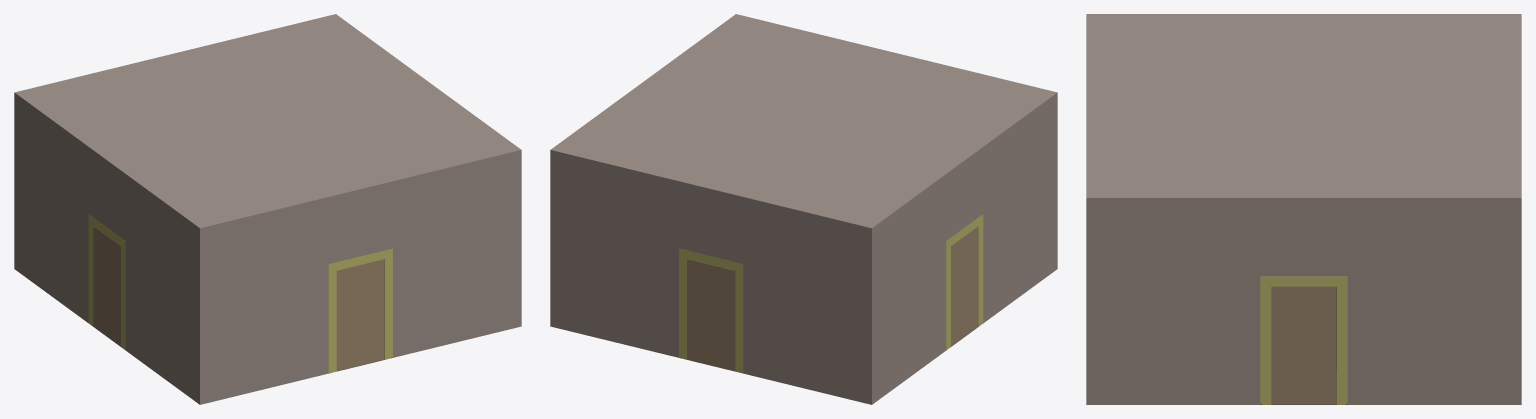
File: Room04_Ballroom.fbx
3 views of the same model, side by side, from view 1: azimuth 30°, elevation 25°; view 2: azimuth 150°, elevation 25°; view 3: azimuth 270°, elevation 25° (orthographic). The views are drawn at different scales.
Visible parts, largest first — view 1: Roof, WallSlicedPosZ, WallSlicedPosX, DoorPosZ, DoorPosX, DoorFramePosZ, DoorFramePosX, WallSlicedNegX, WallSlicedNegZ; view 2: Roof, WallSlicedNegZ, WallSlicedPosX, DoorNegZ, DoorPosX, DoorFrameNegZ, DoorFramePosX, WallSlicedPosZ, WallSlicedNegX; view 3: Roof, WallSlicedNegX, DoorNegX, DoorFrameNegX, WallSlicedNegZ, WallSlicedPosZ, WallSlicedPosX.
Boxes of the visible parts, left/top/right/bottom form: Roof: left=17, top=15, right=518, bottom=227; WallSlicedPosZ: left=198, top=149, right=521, bottom=404; WallSlicedPosX: left=14, top=92, right=201, bottom=404; DoorPosZ: left=336, top=259, right=384, bottom=370; DoorPosX: left=93, top=226, right=120, bottom=346; DoorFramePosZ: left=328, top=248, right=392, bottom=372; DoorFramePosX: left=88, top=214, right=125, bottom=349; WallSlicedNegX: left=335, top=14, right=521, bottom=326; WallSlicedNegZ: left=14, top=14, right=336, bottom=264; Roof: left=553, top=15, right=1054, bottom=227; WallSlicedNegZ: left=550, top=149, right=873, bottom=404; WallSlicedPosX: left=869, top=92, right=1056, bottom=404; DoorNegZ: left=687, top=259, right=735, bottom=370; DoorPosX: left=951, top=226, right=978, bottom=346; DoorFrameNegZ: left=679, top=248, right=743, bottom=372; DoorFramePosX: left=946, top=214, right=983, bottom=349; WallSlicedPosZ: left=735, top=14, right=1057, bottom=269; WallSlicedNegX: left=550, top=14, right=736, bottom=326; Roof: left=1088, top=14, right=1519, bottom=197; WallSlicedNegX: left=1086, top=197, right=1521, bottom=404; DoorNegX: left=1271, top=286, right=1336, bottom=404; DoorFrameNegX: left=1260, top=276, right=1347, bottom=404; WallSlicedNegZ: left=1518, top=14, right=1521, bottom=404; WallSlicedPosZ: left=1086, top=14, right=1089, bottom=404; WallSlicedPosX: left=1088, top=14, right=1521, bottom=14.
Size of the model in its own units: 100 by 52.51 by 100.
